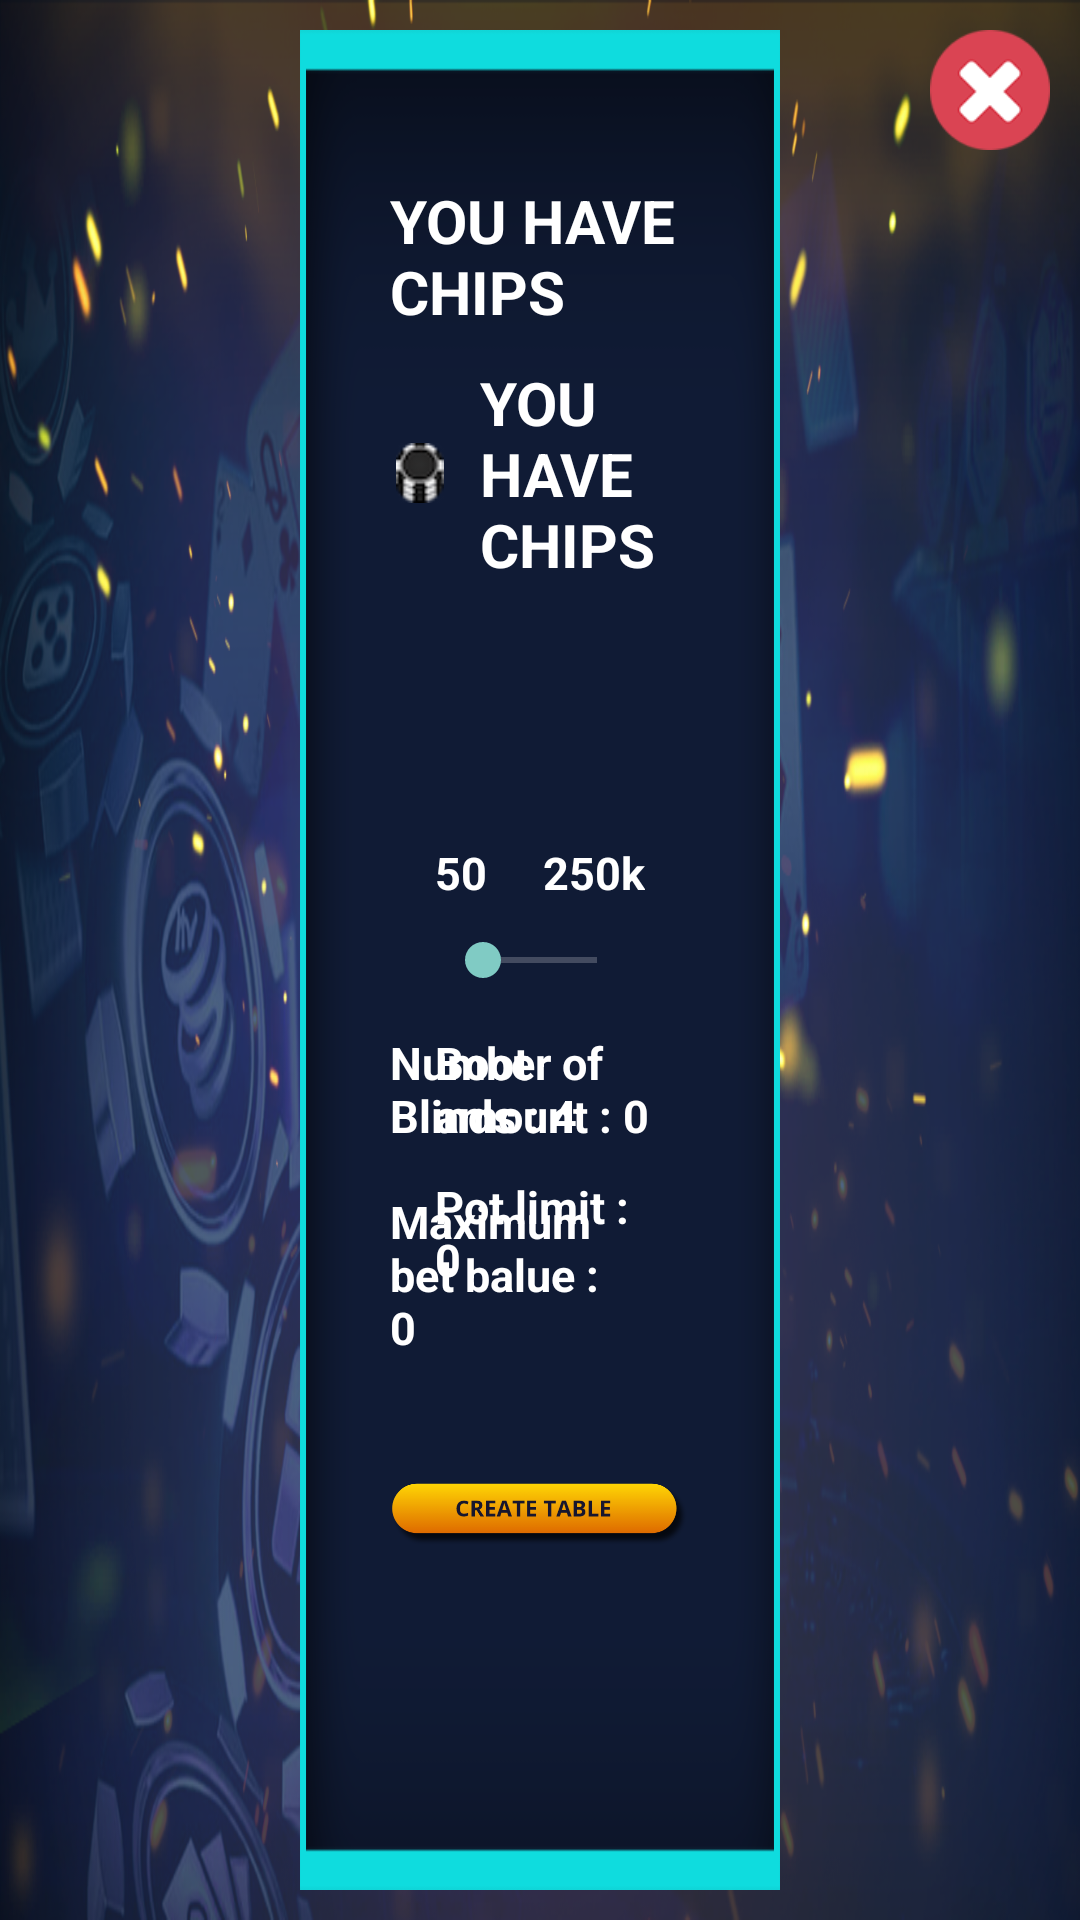

Icon bounding boxes for this 1080px×1920px phone screenshot, format (x1, y1, x2, y2):
chipp: (396, 443, 444, 503)
close: (930, 30, 1050, 150)
